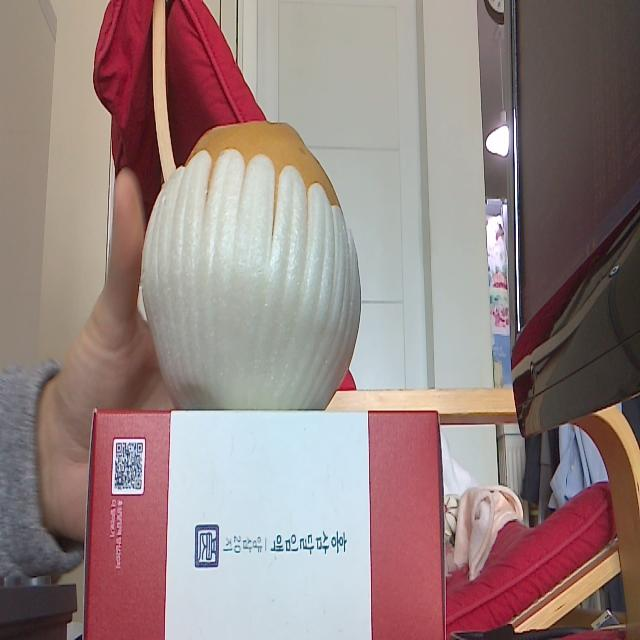pear: (143, 119, 361, 407)
